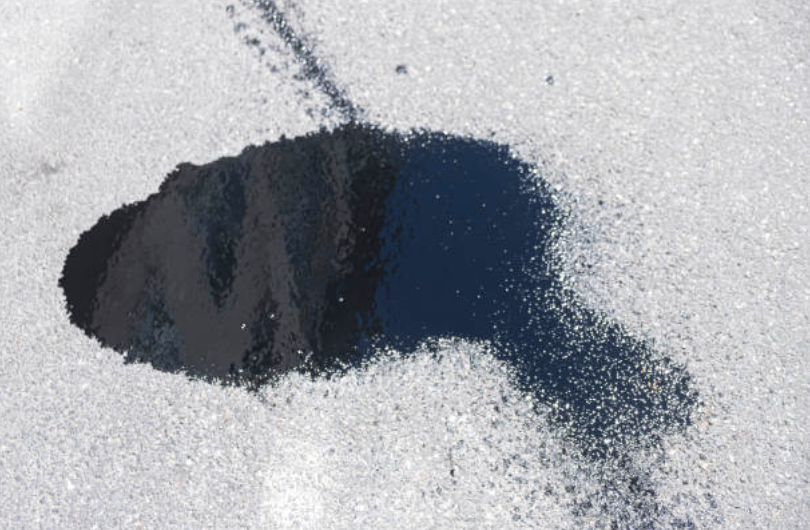oil: (27, 60, 348, 237)
